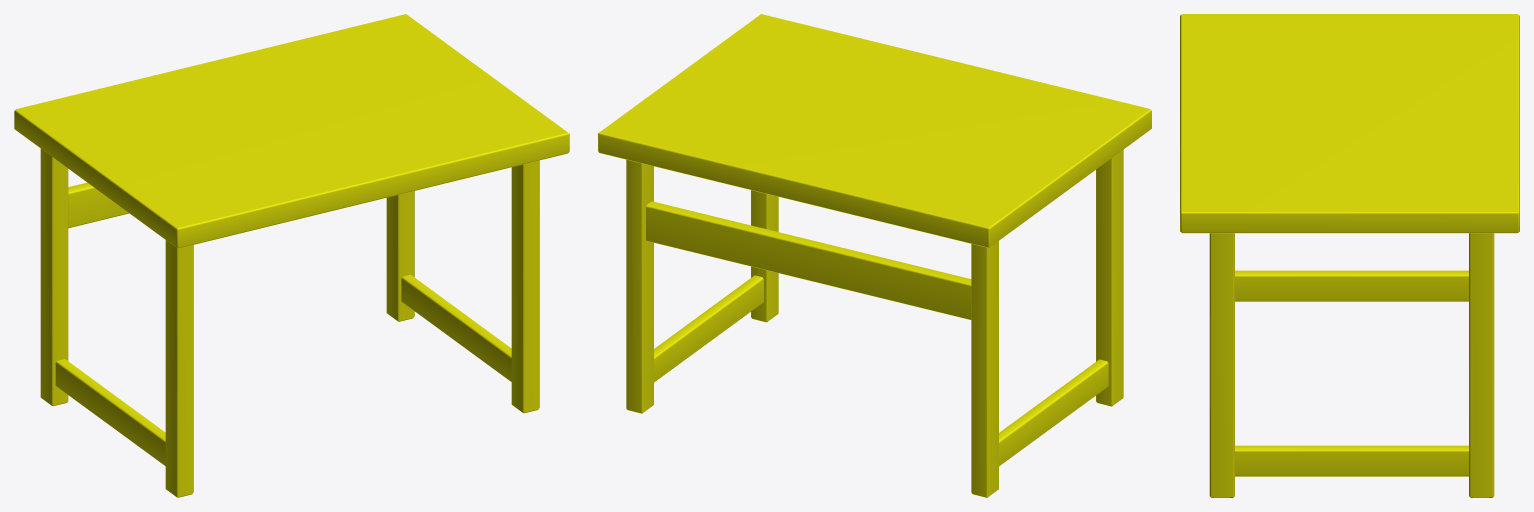
File: SM_smDesk.fbx
3 renders of one model, left to right at view 1: azimuth 30°, elevation 25°; view 2: azimuth 150°, elevation 25°; view 3: azimuth 270°, elevation 25°, orthographic. The views are drawn at different scales.
Visible parts, largest first — view 1: SM_smDesk; view 2: SM_smDesk; view 3: SM_smDesk.
Part boxes in pixels (x1,y1,x2,y2): SM_smDesk: (14,14,569,497); SM_smDesk: (598,14,1151,497); SM_smDesk: (1180,14,1519,497).
Bounding box in the file's own units: 129 × 89.21 × 93.22.
